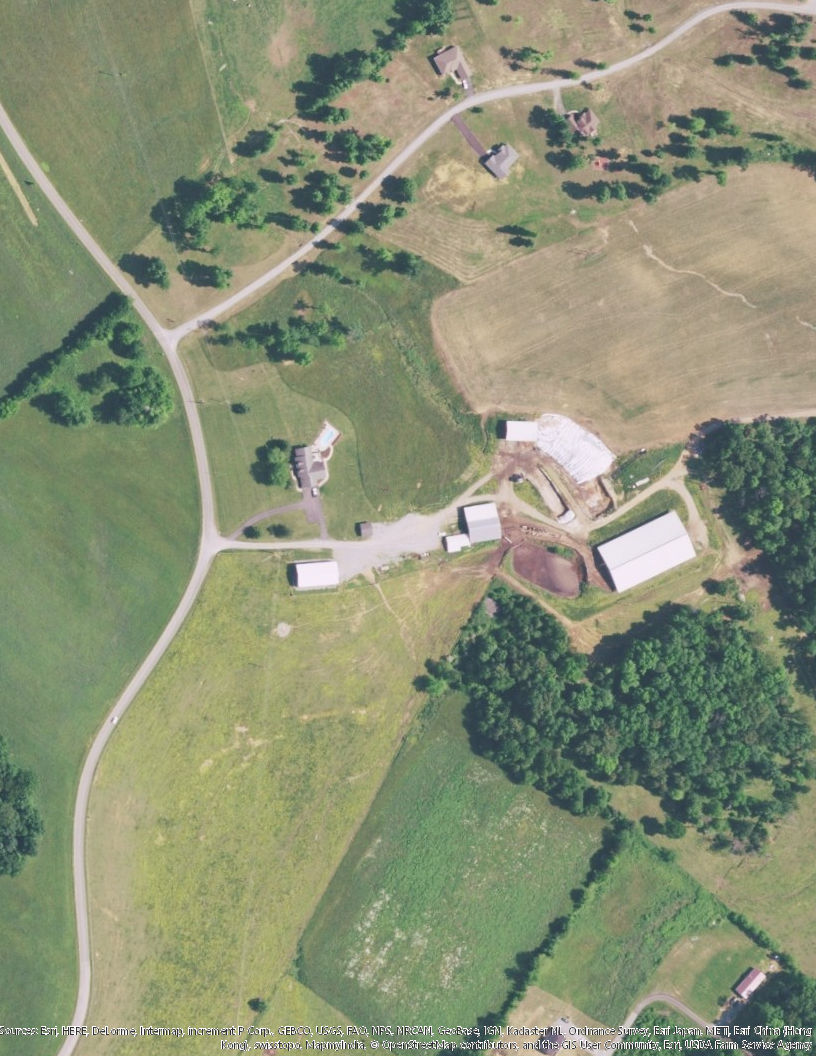cafo: (592, 507, 697, 596)
